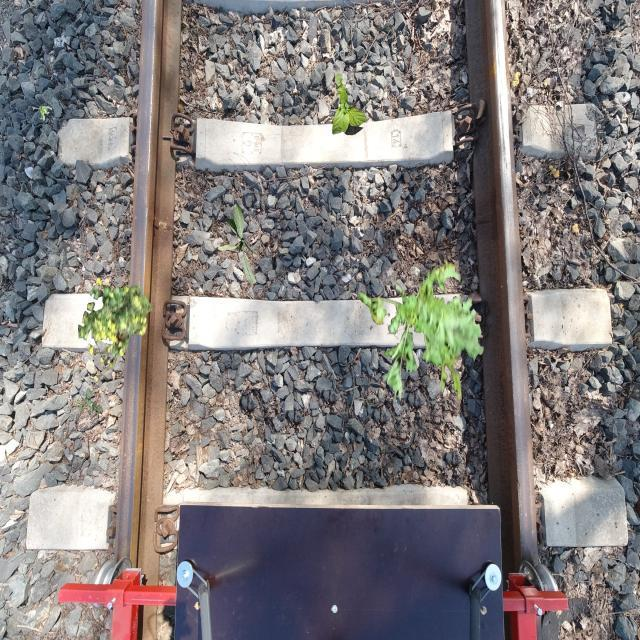Plant: (359, 257, 484, 404), (78, 278, 153, 383), (218, 203, 258, 286), (332, 73, 368, 136), (75, 388, 102, 418), (38, 106, 52, 122)
